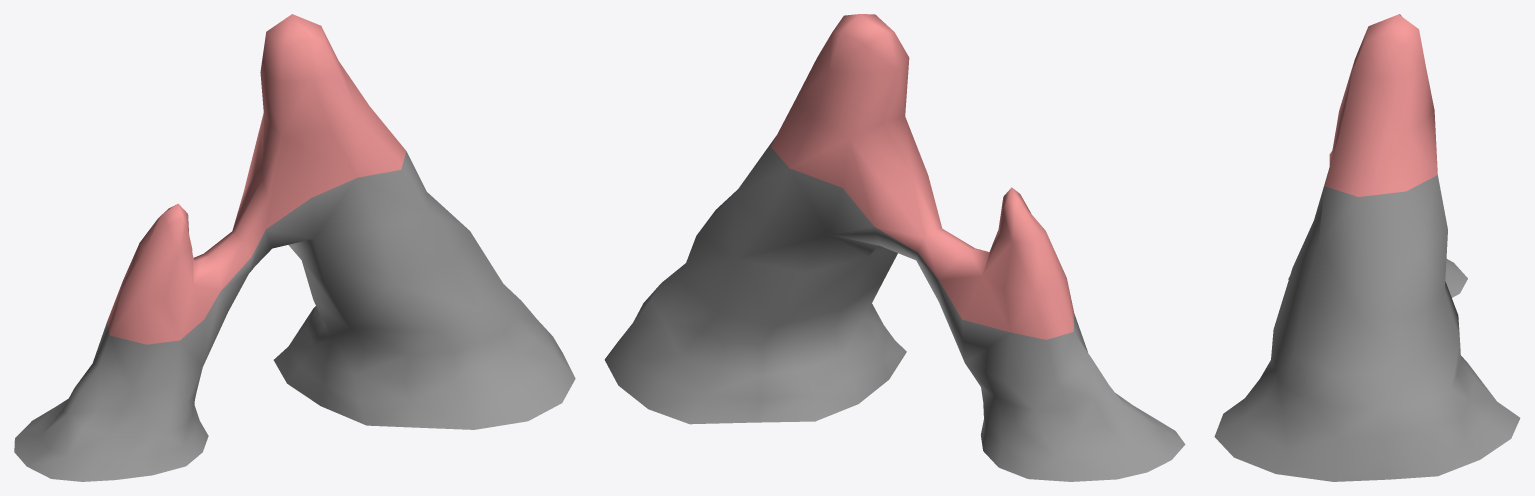
File: beachBossstone.gltf
3 renders of one model, left to right at view 1: azimuth 30°, elevation 25°; view 2: azimuth 150°, elevation 25°; view 3: azimuth 270°, elevation 25°, orthographic. The views are drawn at different scales.
Parts seen in each view (by area): view 1: beachBossstone; view 2: beachBossstone; view 3: beachBossstone.
Part boxes in pixels (x1=…): beachBossstone: x1=14, y1=14, x2=575, y2=481; beachBossstone: x1=604, y1=14, x2=1185, y2=481; beachBossstone: x1=1214, y1=14, x2=1520, y2=481.
Size of the model in its own units: 11.07 by 7.58 by 5.89.
